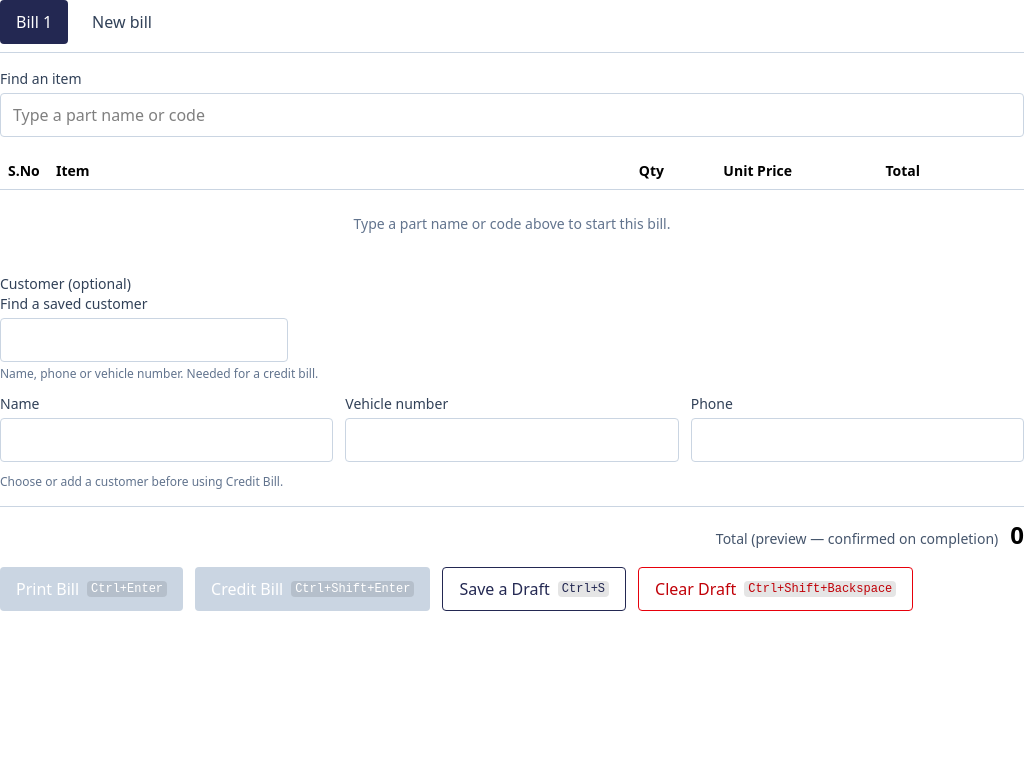
Clear Draft asks first › opens a confirmation naming how many items will go
Click the button "Clear Draft Ctrl+Shift+Backspace".
click(776, 589)  # box [638,567,913,611]
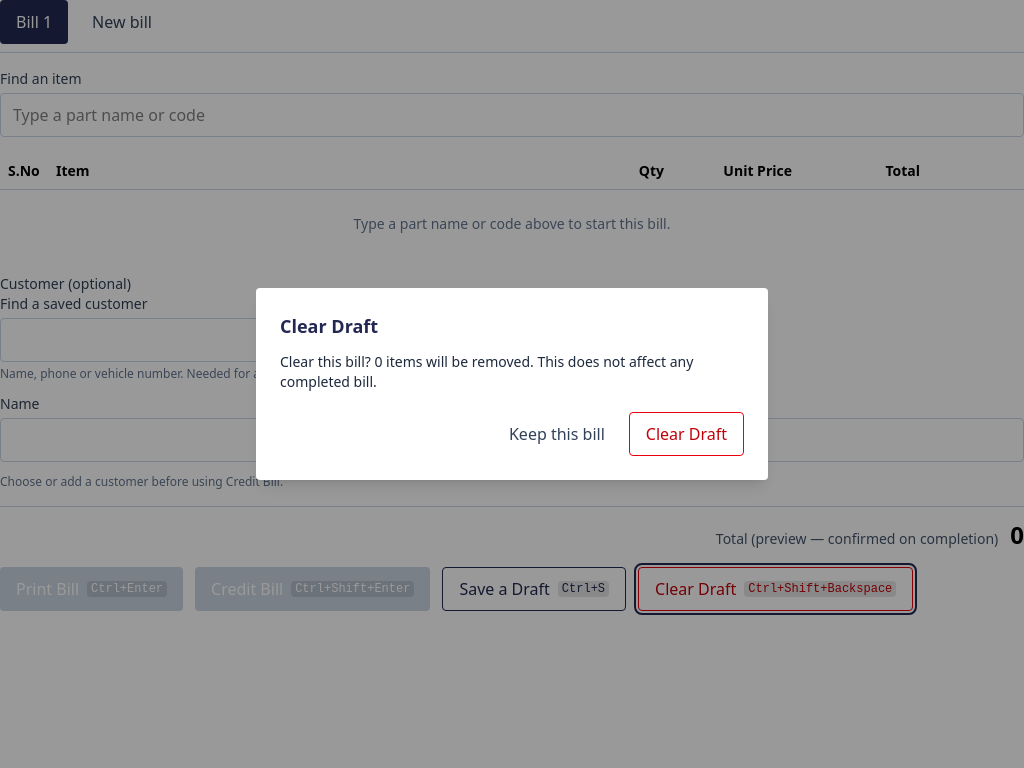
Result: the dialog is shown at [256,288,768,480]
Result: the dialog shows "does not affect any completed bill" at [280,352,693,391]
